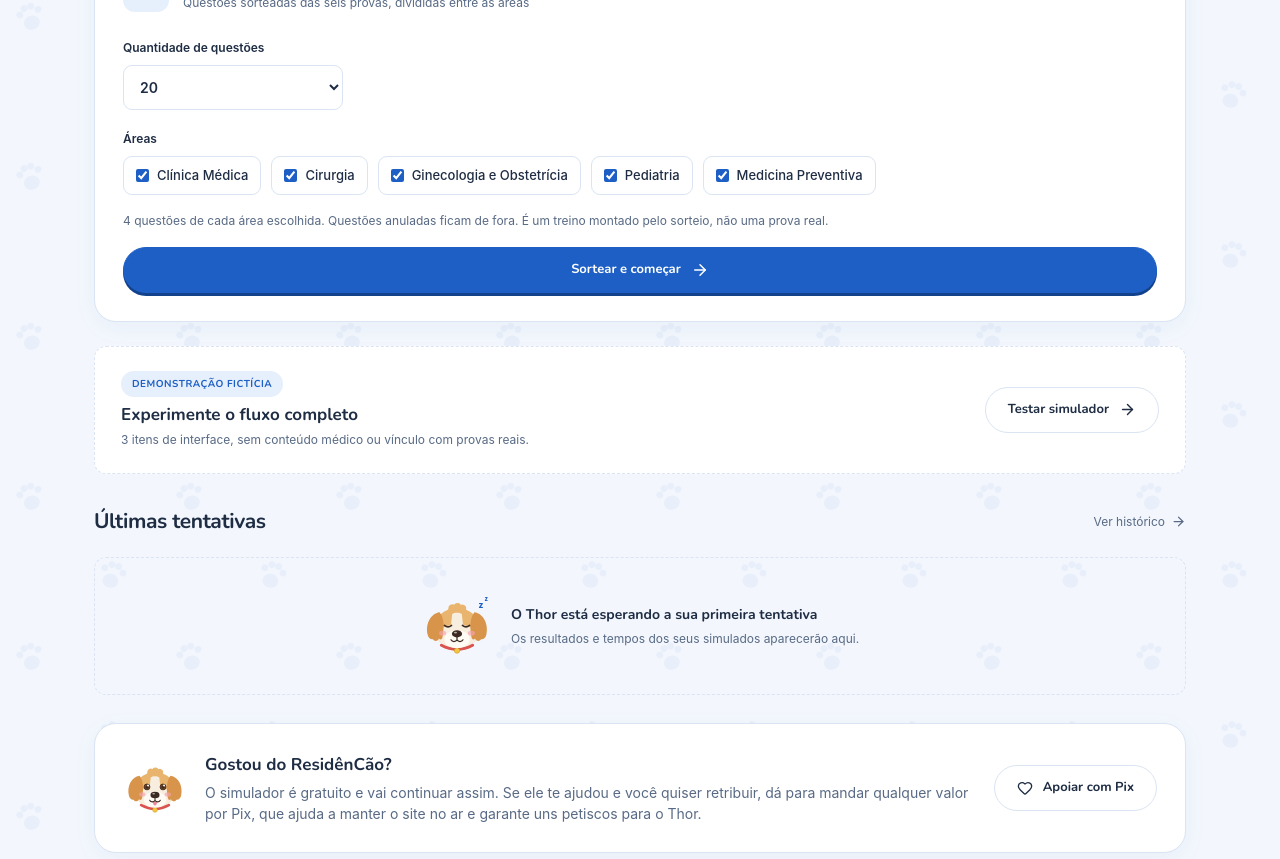
Test: Tela de prova › na última questão o botão vira Finalizar simulado e pede confirmação
(page scrolled)
Click the button "Testar simulador" at (1072, 410), box [985, 387, 1159, 433]
(page scrolled)
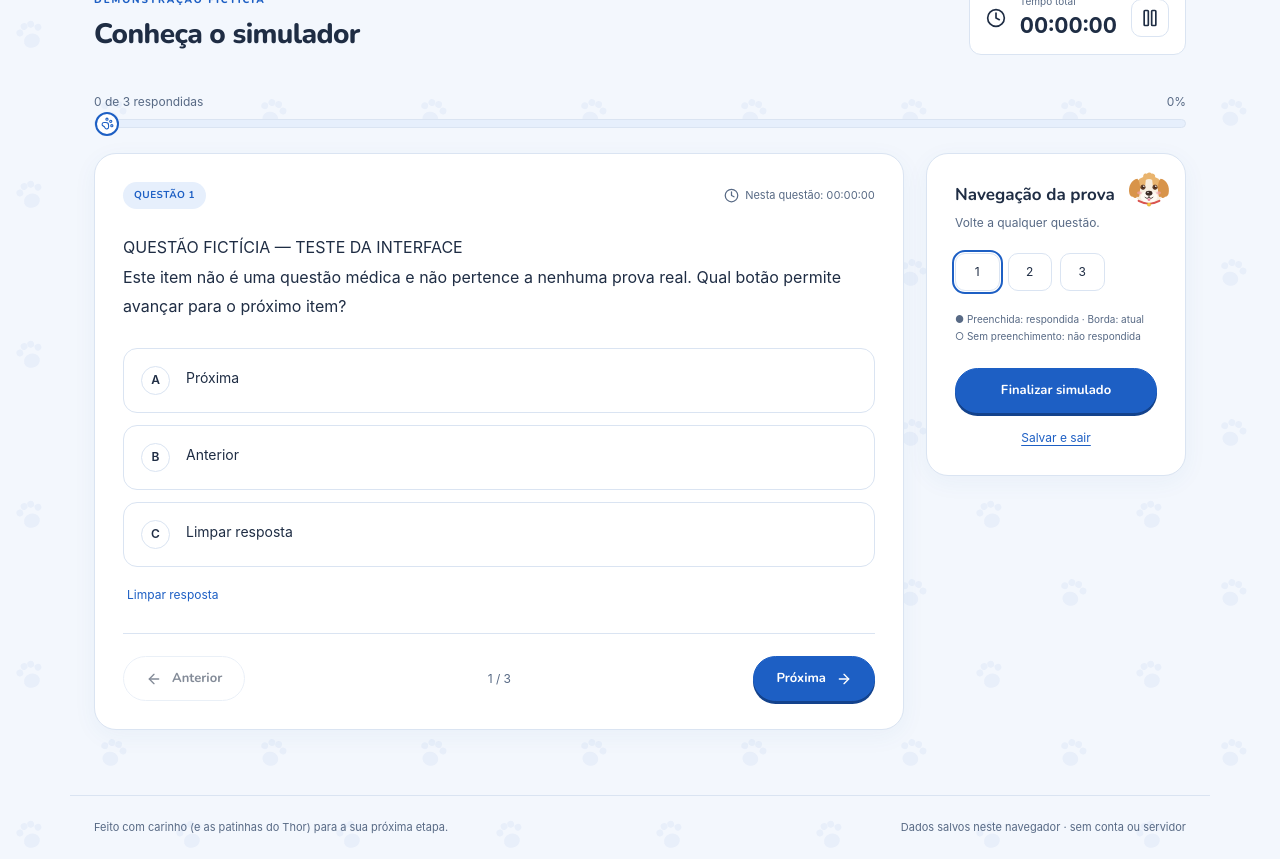
Expected: the heading "Conheça o simulador" is shown, [94, 18, 360, 51]
Click the button named "Questão 3," at (1082, 272), box [1060, 253, 1104, 291]
(page scrolled)
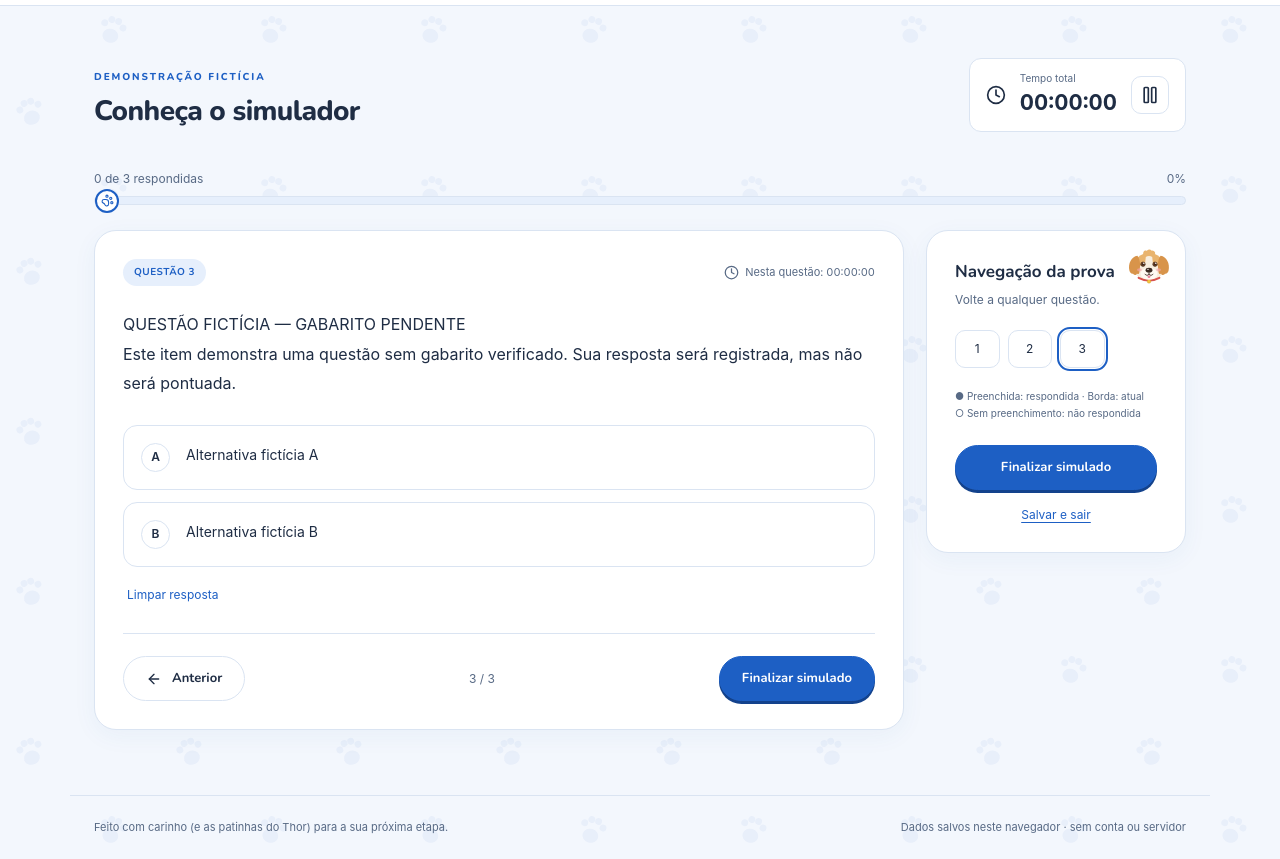
Click the 2nd button "Finalizar simulado" at (797, 679), box [719, 656, 875, 701]
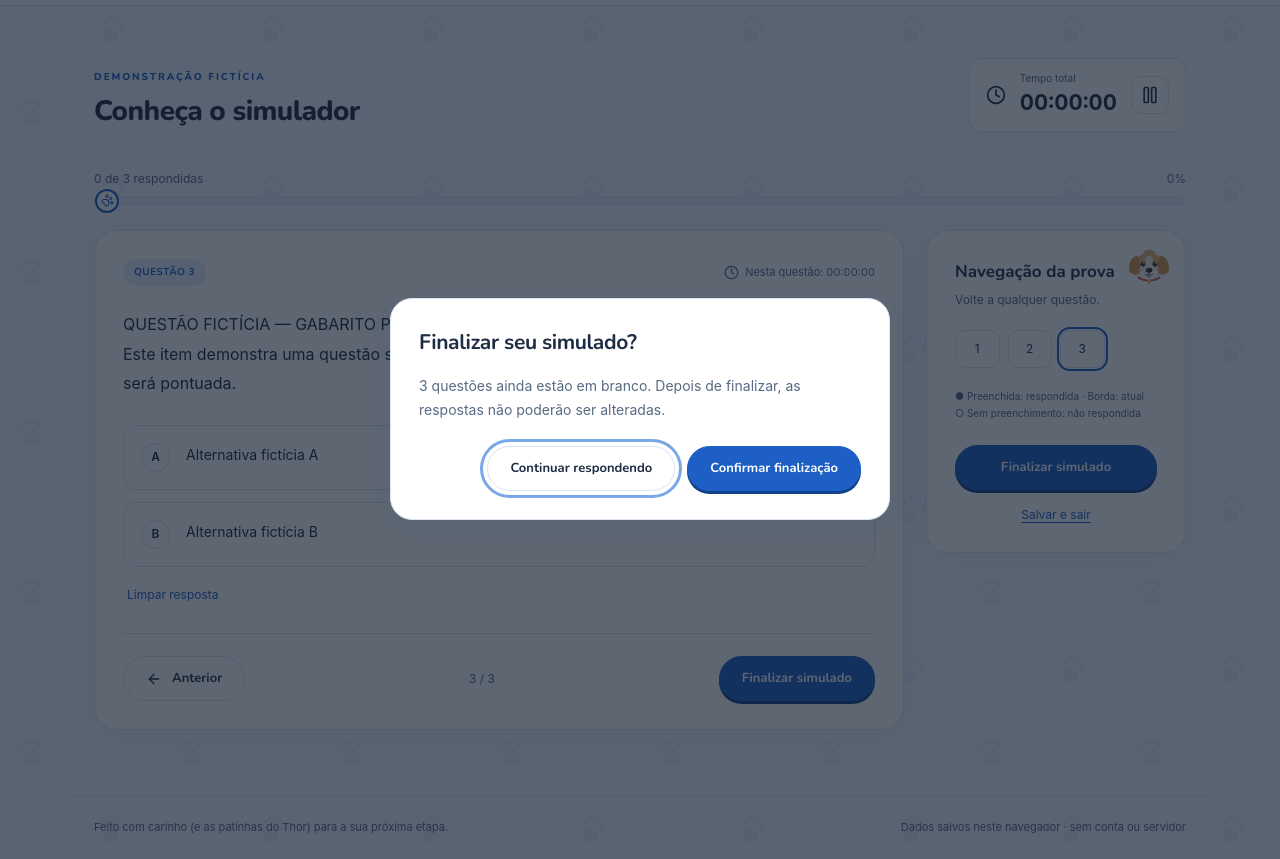
Expected: the dialog "Finalizar seu simulado?" is shown, [390, 298, 890, 520]
